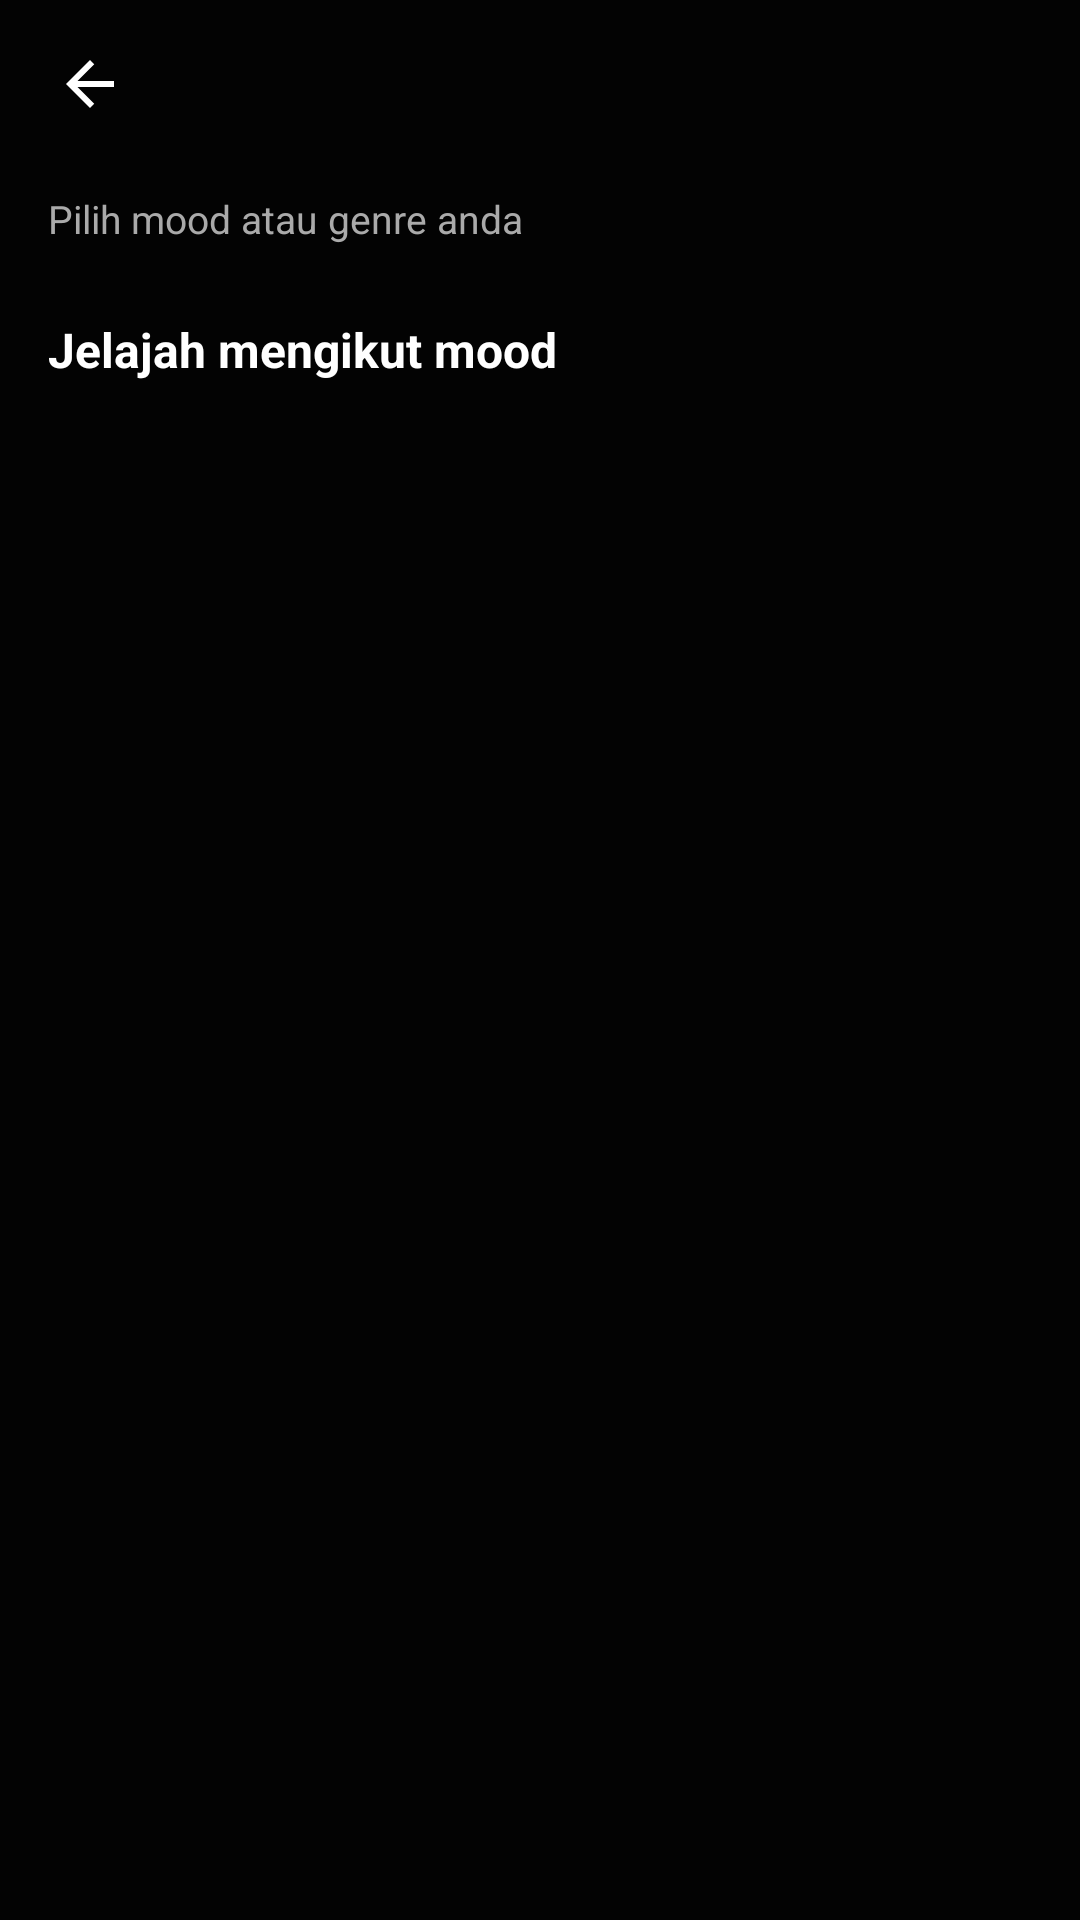

Icon click points for this 1080 × 1920 phone screenshot, format (x=x, y=y):
back: (x=90, y=84)
